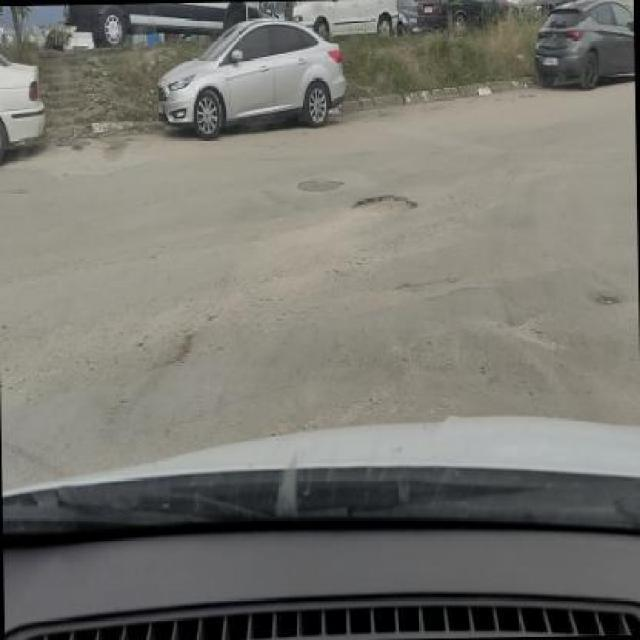Pothole: (349, 195, 418, 215)
